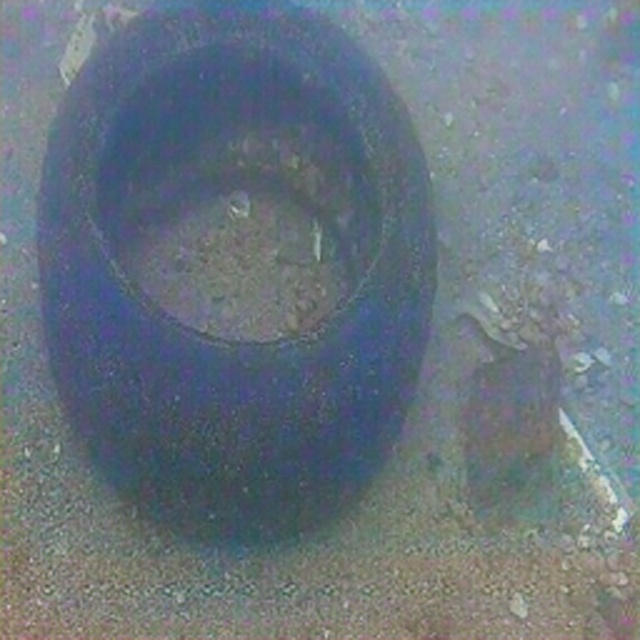mine: (35, 0, 438, 537)
